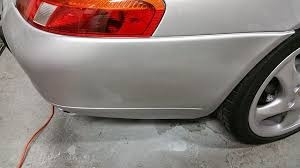Scratch: (244, 20, 297, 36)
